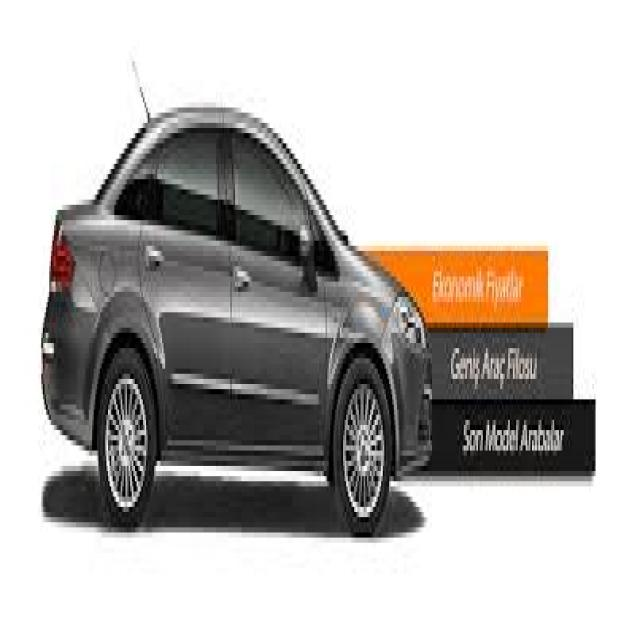Car: (41, 96, 434, 538)
